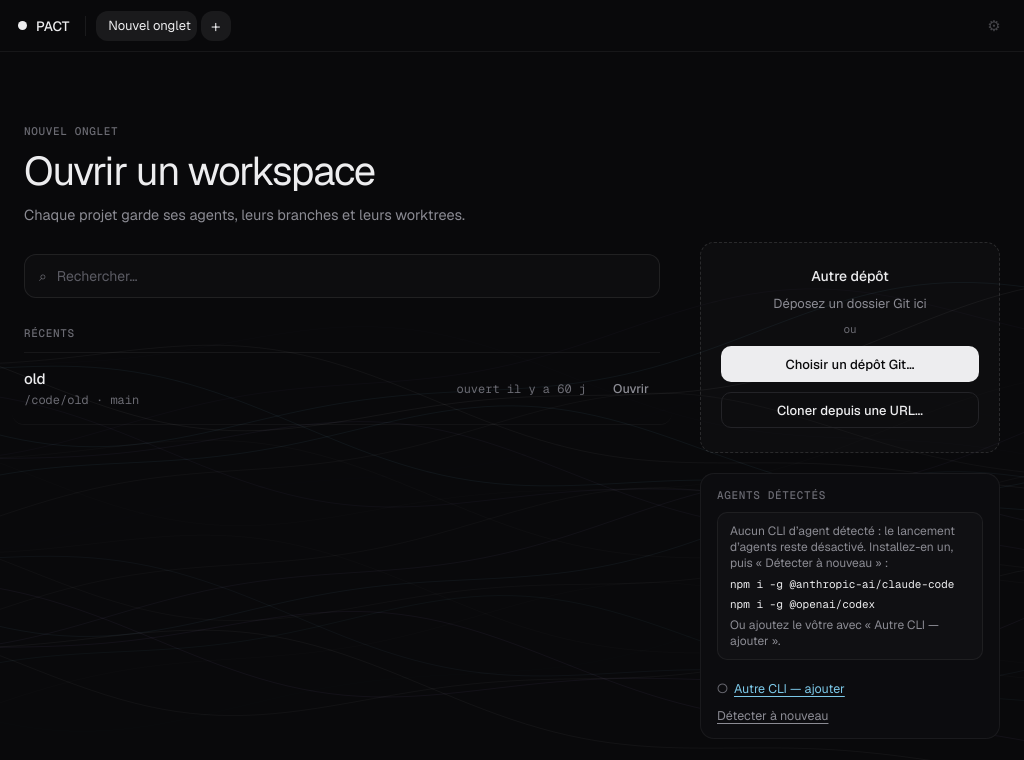
Test: App wiring of the home actions › opens a recent, then initializes the refused folder
Click the button "Ouvrir". click: {"x": 631, "y": 389}
box: [602,375,660,403]
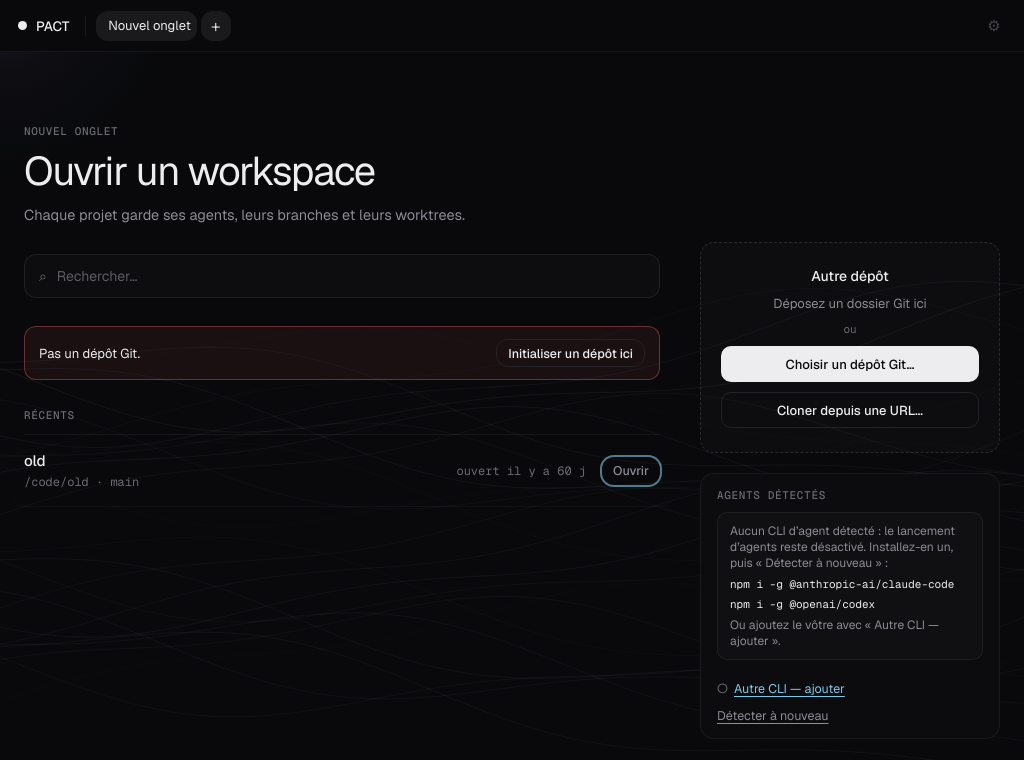
Click the button "Initialiser un dépôt ici". click: {"x": 571, "y": 354}
box: [496,340,645,368]
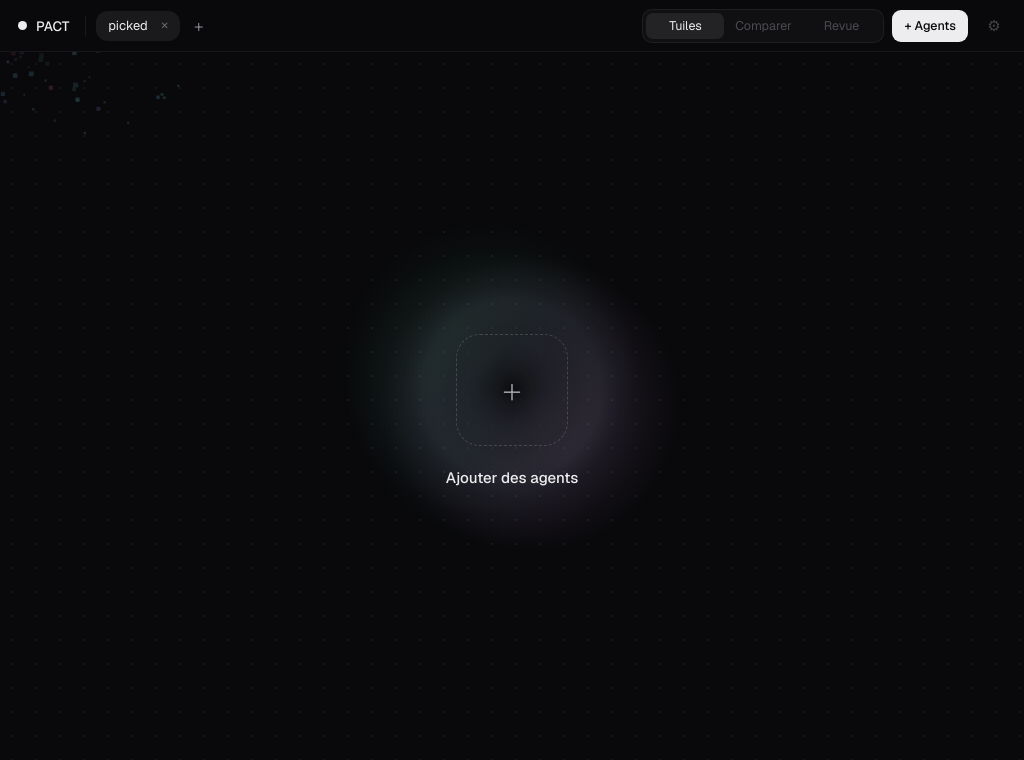
Now the tab "picked" is shown, box [108,17,148,34]
